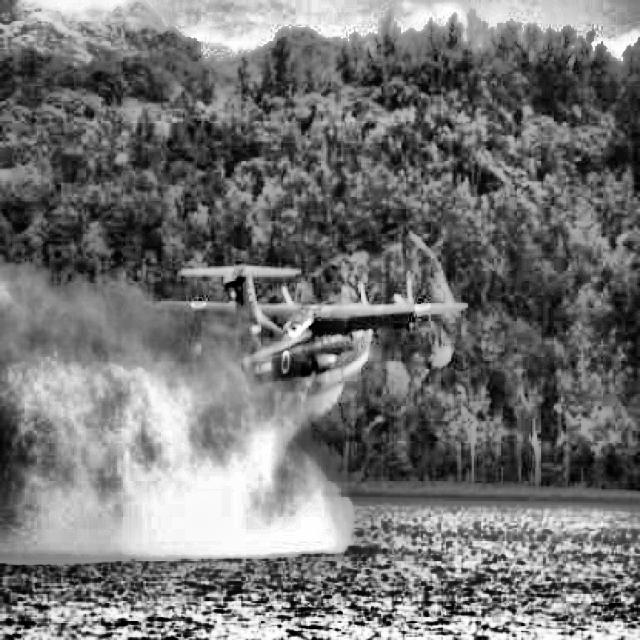US2: (152, 264, 468, 396)
